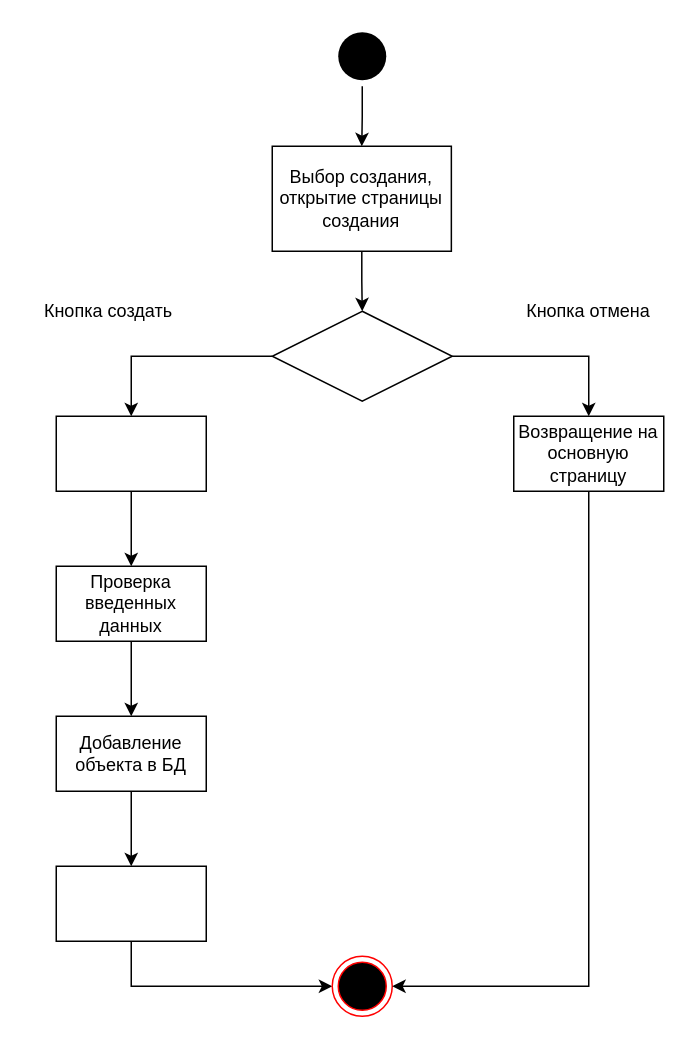
Image size: 696x1043. Some labels were removed from this diagram. Each missing label, with the centre of its shape:
"Ввод данных пользователем" goes at pixel 130 453.
"Возврат на основную страницу" goes at pixel 130 903.
